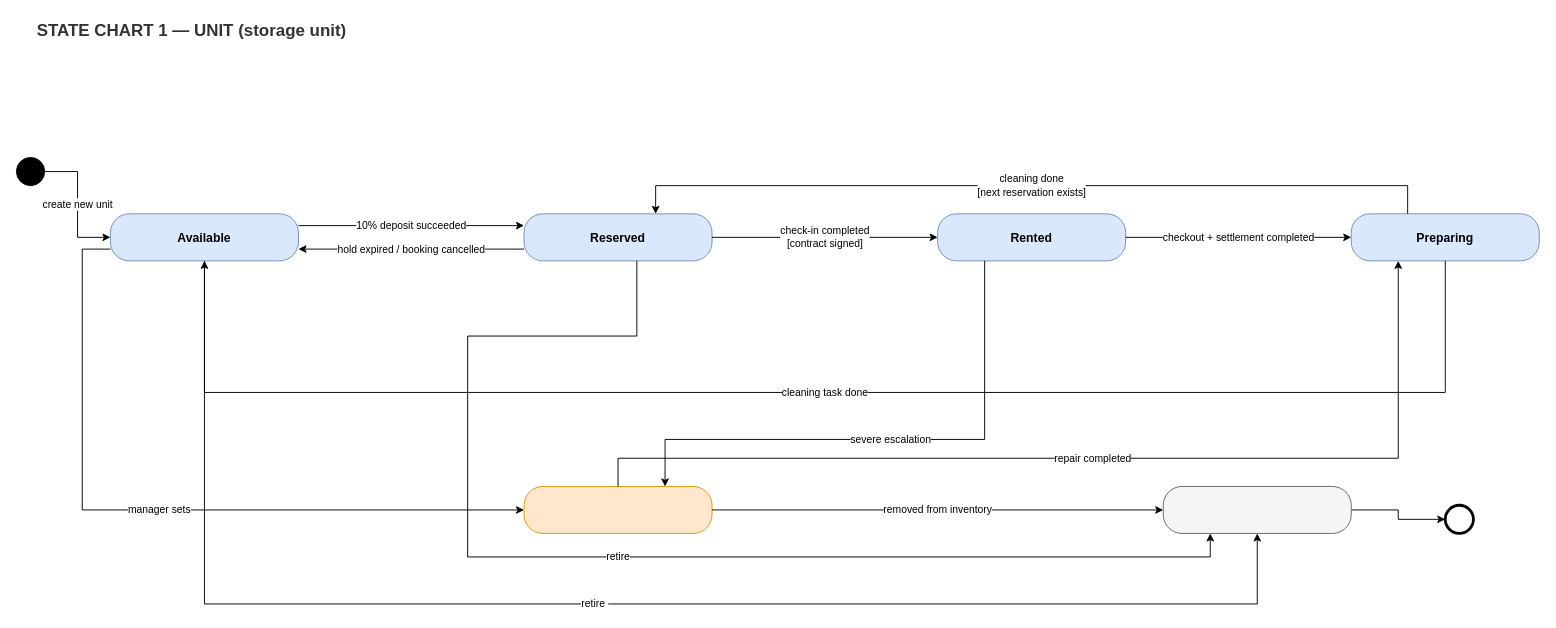
The diagram is 1556 pixels wide and 628 high, and some of its shapes have lost their labels. The centre of each missing label's shape, as x and y in pixels:
"Maintenance" belongs at point (617, 509).
"Retired" belongs at point (1256, 509).
